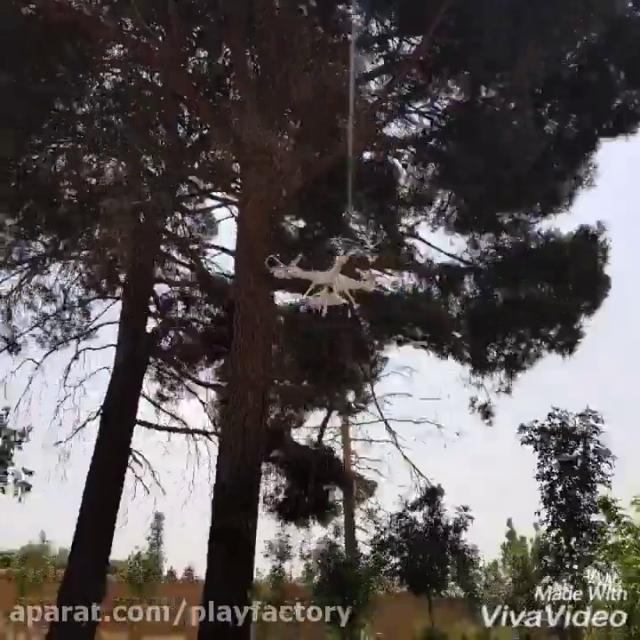drone: (272, 246, 385, 310)
